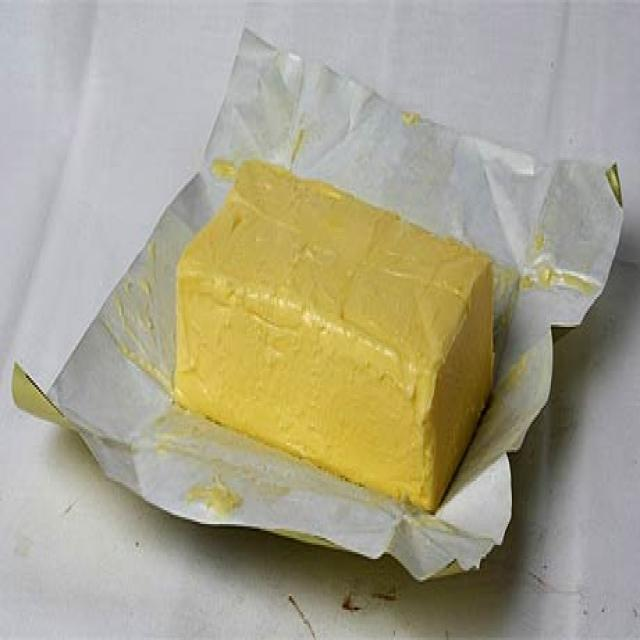Butter: (177, 165, 491, 514)
